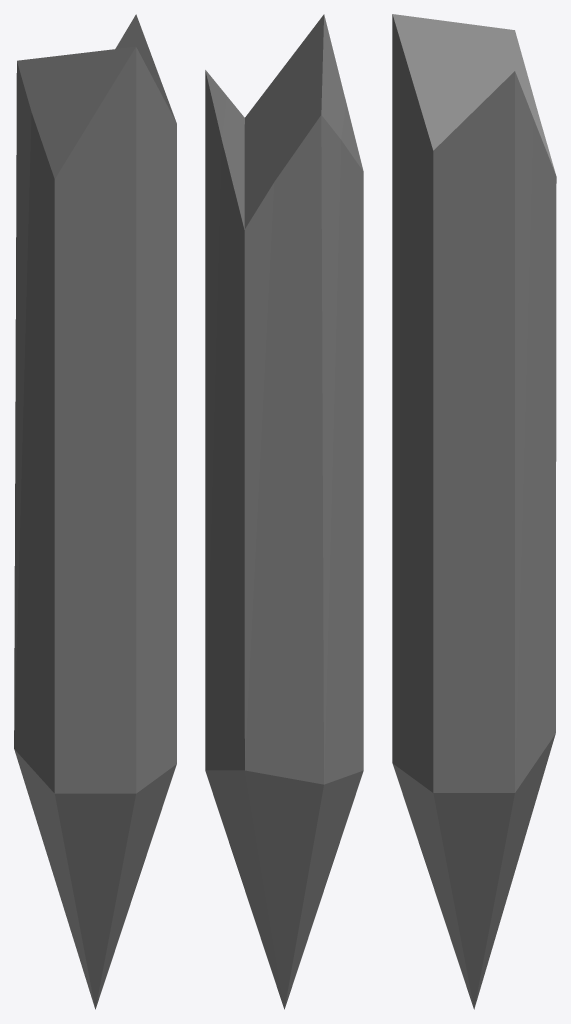
The model's file is nail_1_bottom.FBX.
The picture shows the model from 3 angles, left to right: view 1: azimuth 30°, elevation 25°; view 2: azimuth 150°, elevation 25°; view 3: azimuth 270°, elevation 25°; orthographic projection. The views are drawn at different scales.
Visible parts, largest first — view 1: nail_low_poly_d; view 2: nail_low_poly_d; view 3: nail_low_poly_d.
Part boxes in pixels (x1=…): nail_low_poly_d: x1=14, y1=14, x2=176, y2=1009; nail_low_poly_d: x1=205, y1=14, x2=363, y2=1009; nail_low_poly_d: x1=392, y1=14, x2=556, y2=1009.
Size of the model in its own units: 4.09 by 31.78 by 4.74.
1 material, 1 textured.
